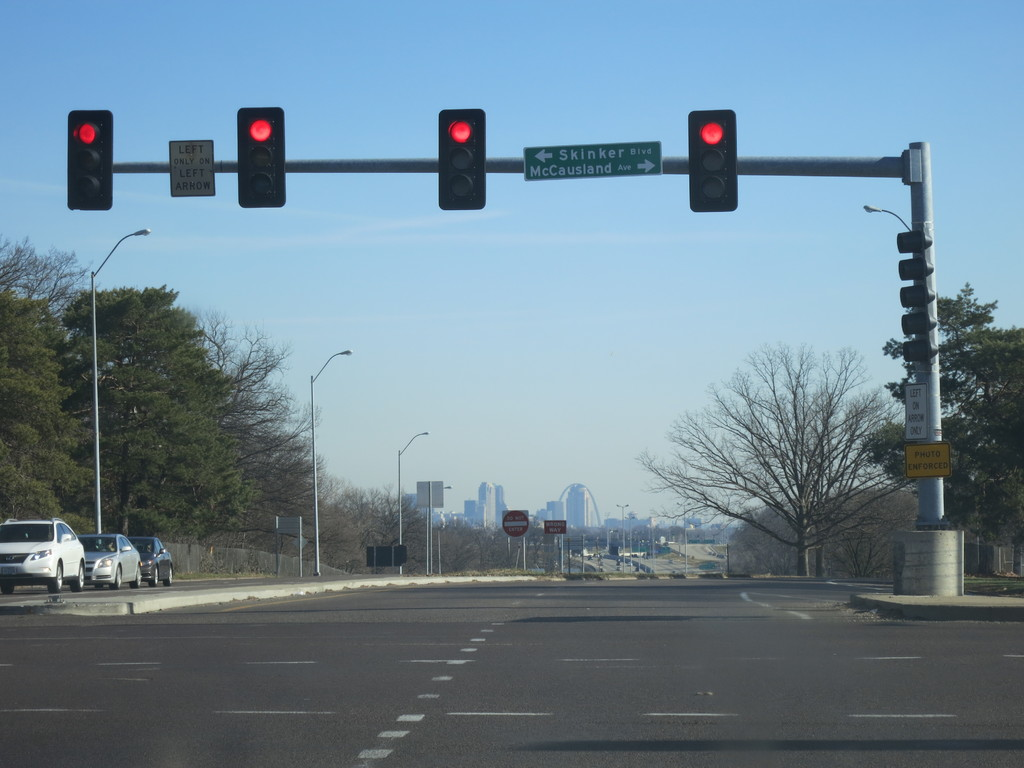red_light: (690, 111, 736, 210), (239, 108, 283, 205), (441, 109, 484, 206), (68, 112, 109, 207)
